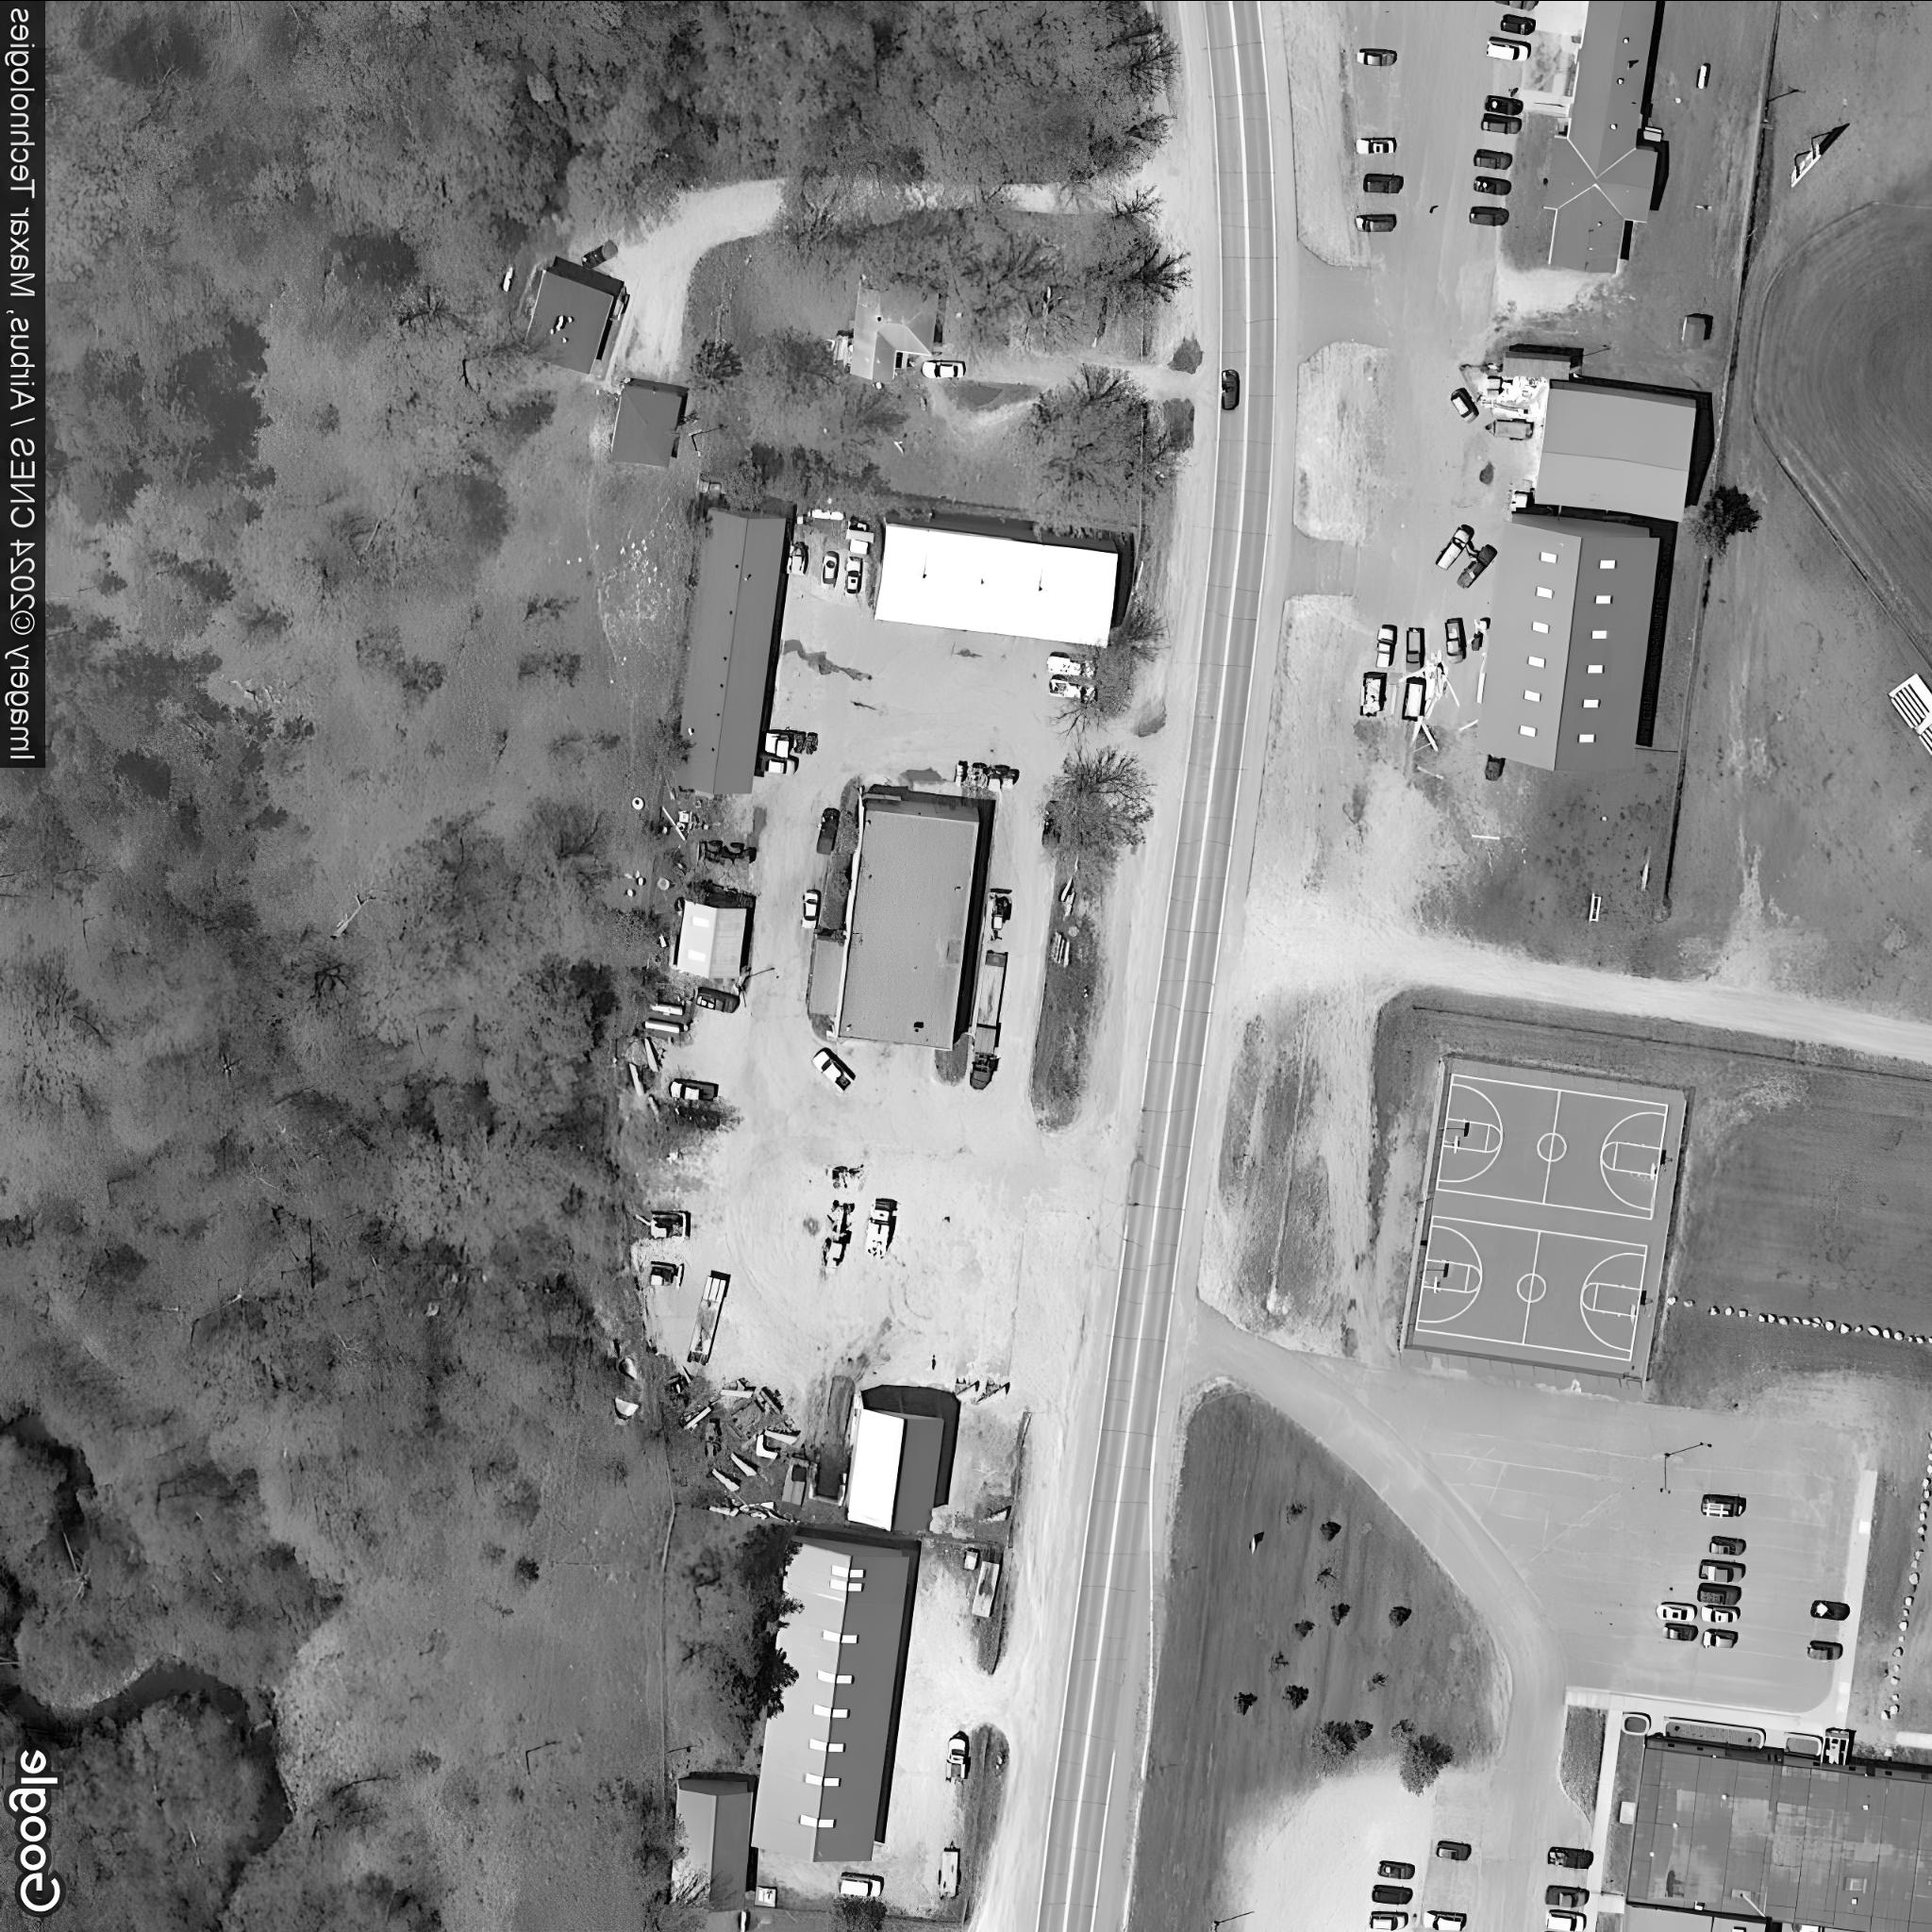Garage: (607, 373, 685, 469)
House: (1541, 2, 1658, 276), (518, 264, 617, 380), (847, 278, 941, 382)
Other: (1621, 1730, 1932, 1932), (747, 1530, 911, 1865), (1470, 508, 1663, 775), (803, 791, 980, 1056), (869, 508, 1120, 651), (669, 499, 789, 794), (1530, 377, 1697, 525), (842, 1401, 950, 1536), (667, 1773, 752, 1914), (672, 892, 754, 984)
Propane: (497, 260, 518, 294), (1695, 58, 1713, 94), (807, 506, 847, 520)
